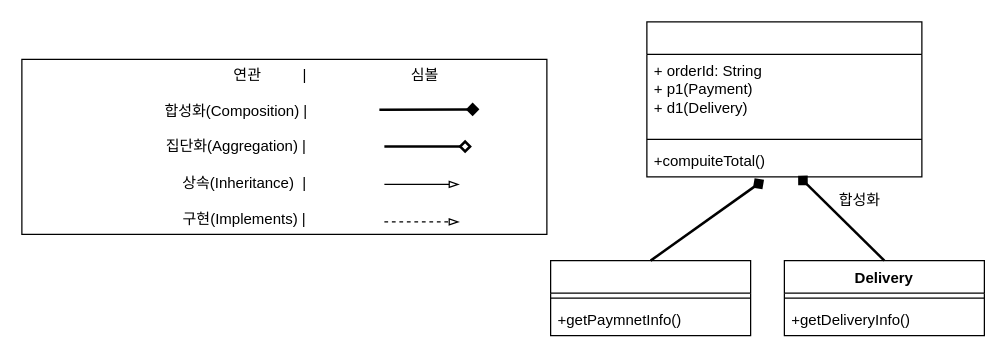
Some shapes in this 1006 by 361 pixel diagram are drawn without their labels. Here are the shapes that lost their labels. From the top down, the box of each, then its label:
(646, 21, 922, 177): Classname
(549, 259, 751, 336): Payment
